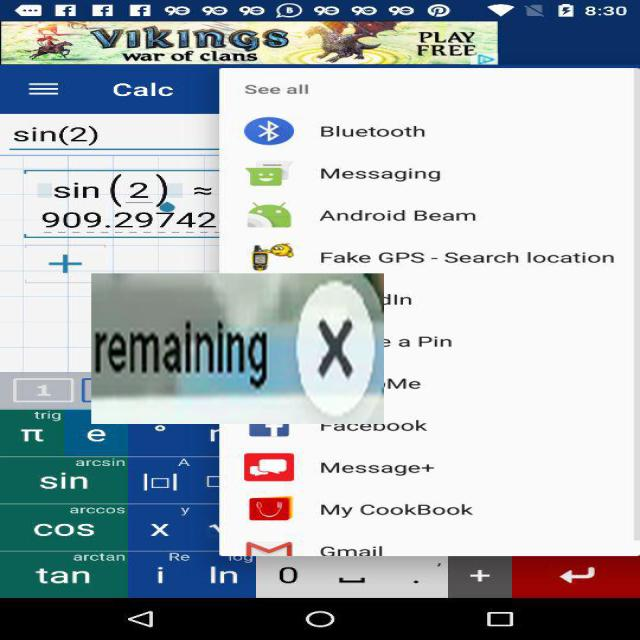misdirection: (91, 273, 384, 424)
